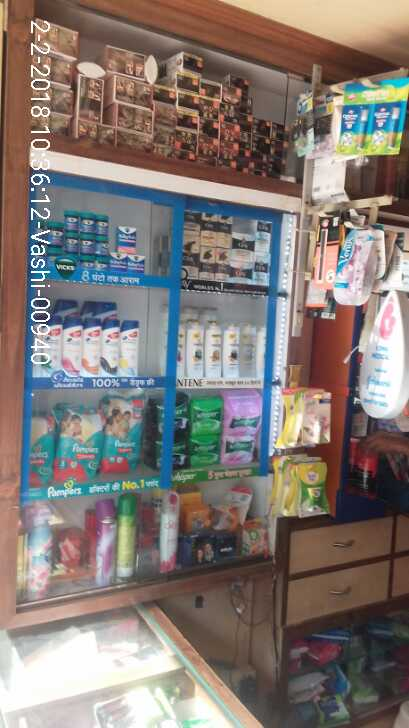beauty: (336, 228, 376, 308), (121, 312, 141, 377), (102, 318, 124, 377), (82, 319, 105, 375), (219, 320, 240, 381), (62, 322, 85, 375), (185, 320, 205, 378), (225, 229, 255, 263), (205, 321, 221, 377), (197, 219, 222, 247), (198, 247, 218, 281), (226, 262, 252, 287)
pharmacy: (53, 401, 104, 486), (99, 395, 148, 476), (221, 395, 263, 435), (187, 396, 221, 439), (221, 435, 260, 466), (187, 436, 220, 468), (116, 222, 139, 253), (125, 254, 148, 278), (93, 213, 114, 237), (64, 211, 84, 235), (109, 251, 127, 275), (82, 237, 98, 261), (65, 236, 83, 255), (81, 214, 96, 236), (81, 239, 94, 256), (95, 237, 107, 255)
